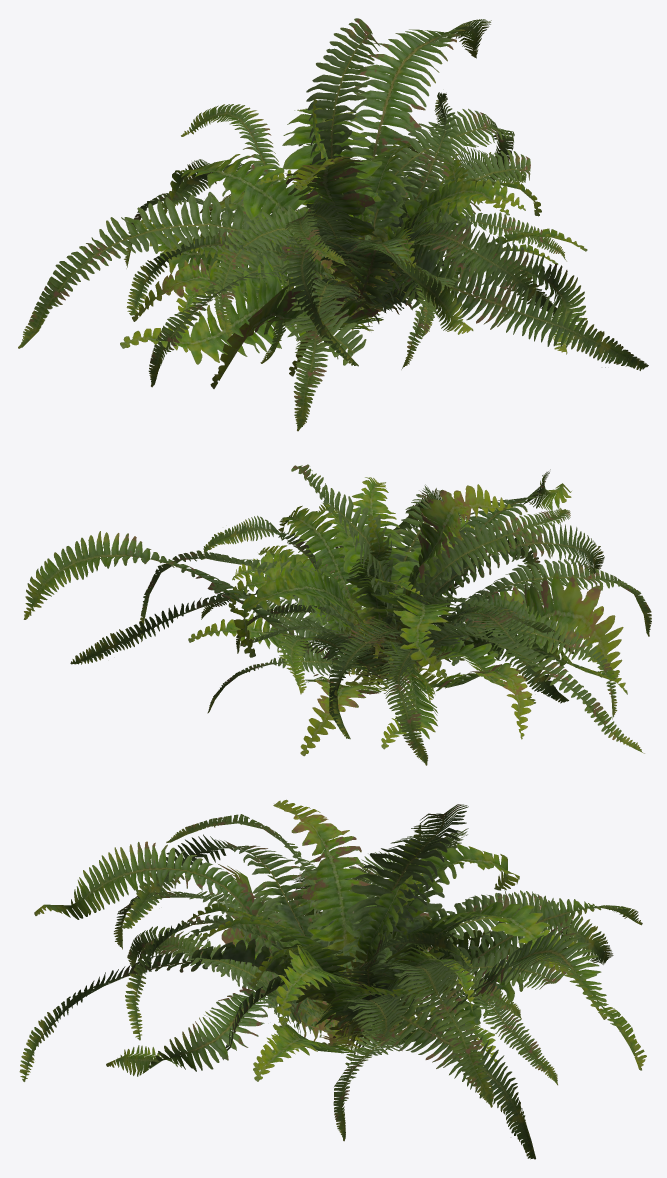
File: fern.glb
The picture shows the model from 3 angles, top to bottom: view 1: azimuth 30°, elevation 25°; view 2: azimuth 150°, elevation 25°; view 3: azimuth 270°, elevation 25°; orthographic projection. The views are drawn at different scales.
Visible parts, largest first — view 1: fern_02_b, fern_02_c, fern_02_d, fern_02_a; view 2: fern_02_b, fern_02_c, fern_02_d, fern_02_a; view 3: fern_02_b, fern_02_c, fern_02_a, fern_02_d.
Boxes of the visible parts, x1=… form: fern_02_b: x1=18, y1=18, x2=648, y2=431; fern_02_c: x1=120, y1=96, x2=587, y2=376; fern_02_d: x1=141, y1=143, x2=558, y2=363; fern_02_a: x1=176, y1=92, x2=544, y2=337; fern_02_b: x1=23, y1=464, x2=651, y2=756; fern_02_c: x1=70, y1=484, x2=627, y2=765; fern_02_d: x1=232, y1=516, x2=589, y2=749; fern_02_a: x1=203, y1=515, x2=535, y2=712; fern_02_b: x1=19, y1=799, x2=646, y2=1141; fern_02_c: x1=106, y1=814, x2=642, y2=1159; fern_02_a: x1=139, y1=873, x2=564, y2=1085; fern_02_d: x1=187, y1=868, x2=591, y2=1071.
Size of the model in its own units: 0.9897 by 0.4277 by 0.8937.
1 material, 1 textured.
